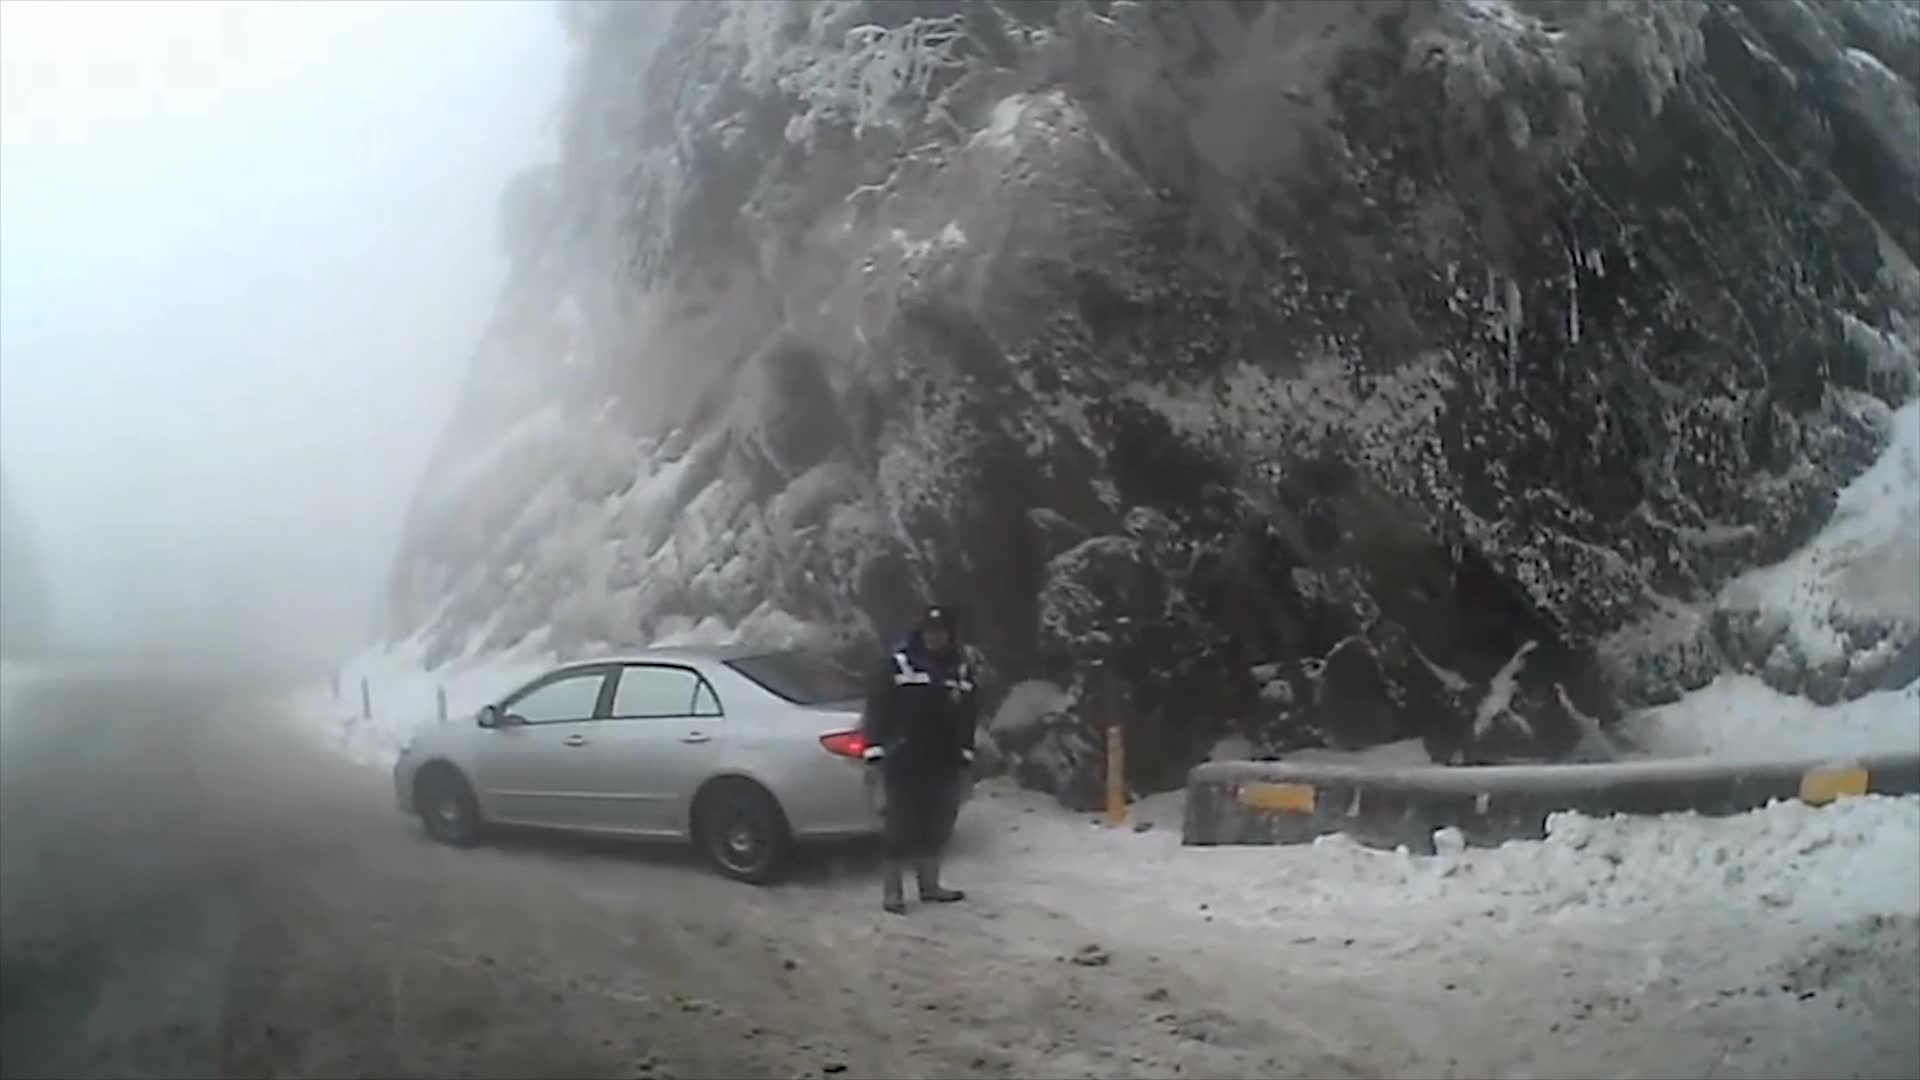pedestrian: (861, 600, 974, 913)
vehicle: (391, 642, 978, 887)
